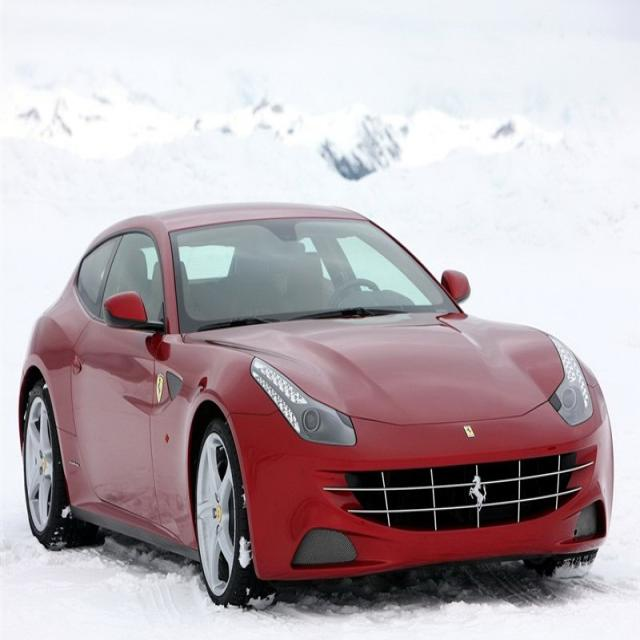front_bumper: (228, 395, 614, 584)
front_glass: (170, 214, 460, 333)
front_left_side_light: (546, 331, 595, 429)
front_left_side_mirror: (442, 265, 472, 308)
front_right_side_door: (68, 226, 170, 542)
front_right_side_light: (247, 354, 357, 449)
front_right_side_mirror: (102, 292, 150, 336)
wheel: (198, 425, 248, 597), (23, 385, 74, 545)
